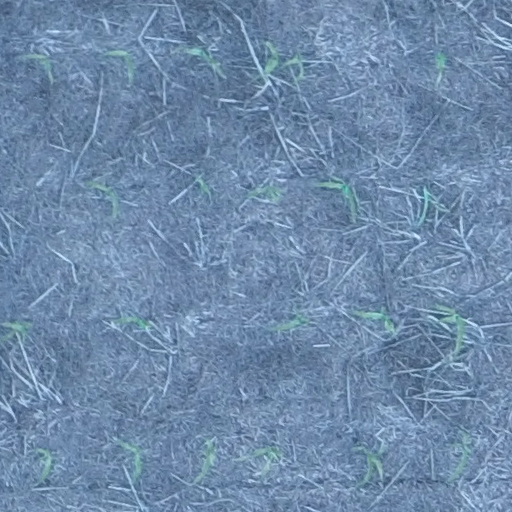planta: (316, 179, 359, 223), (173, 44, 224, 77), (234, 446, 283, 479), (434, 304, 465, 353), (351, 444, 384, 484), (103, 48, 136, 86), (86, 181, 119, 219), (447, 430, 471, 477), (193, 437, 217, 483), (353, 310, 395, 334), (22, 52, 55, 82), (118, 440, 142, 479), (281, 54, 305, 83), (261, 39, 280, 75), (272, 312, 308, 331), (110, 315, 153, 330), (245, 185, 281, 202), (35, 447, 52, 480)
